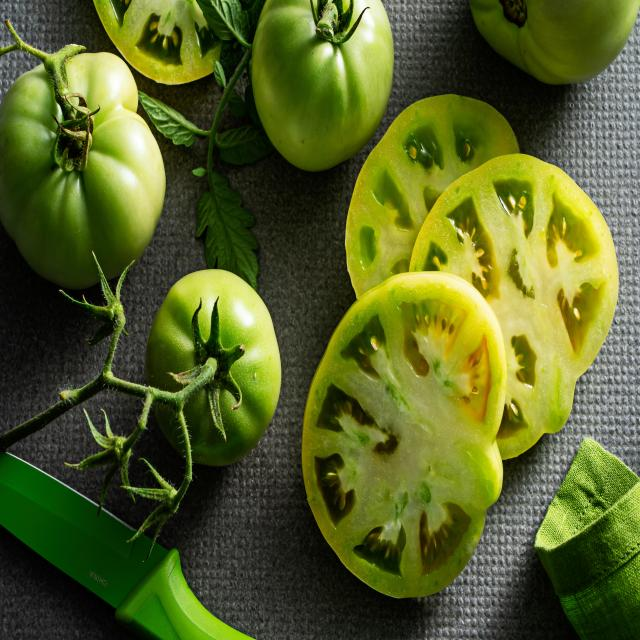unripe tomato: (0, 42, 154, 288), (148, 268, 279, 482), (244, 0, 398, 167), (463, 0, 632, 91)
